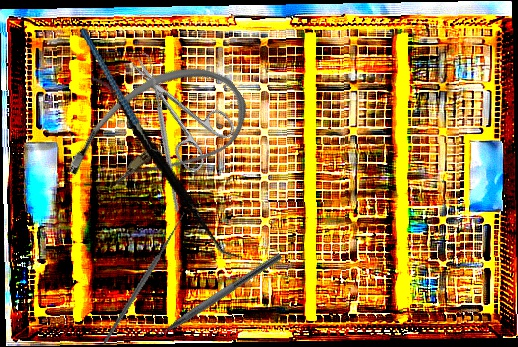Cannula: (52, 41, 262, 229)
Chopper: (143, 243, 283, 347), (80, 17, 164, 167)
Hook Surgical: (63, 204, 222, 346), (94, 51, 226, 214)
Iris Scissors: (111, 37, 242, 176)
Spatula Surgical: (48, 72, 285, 262)
